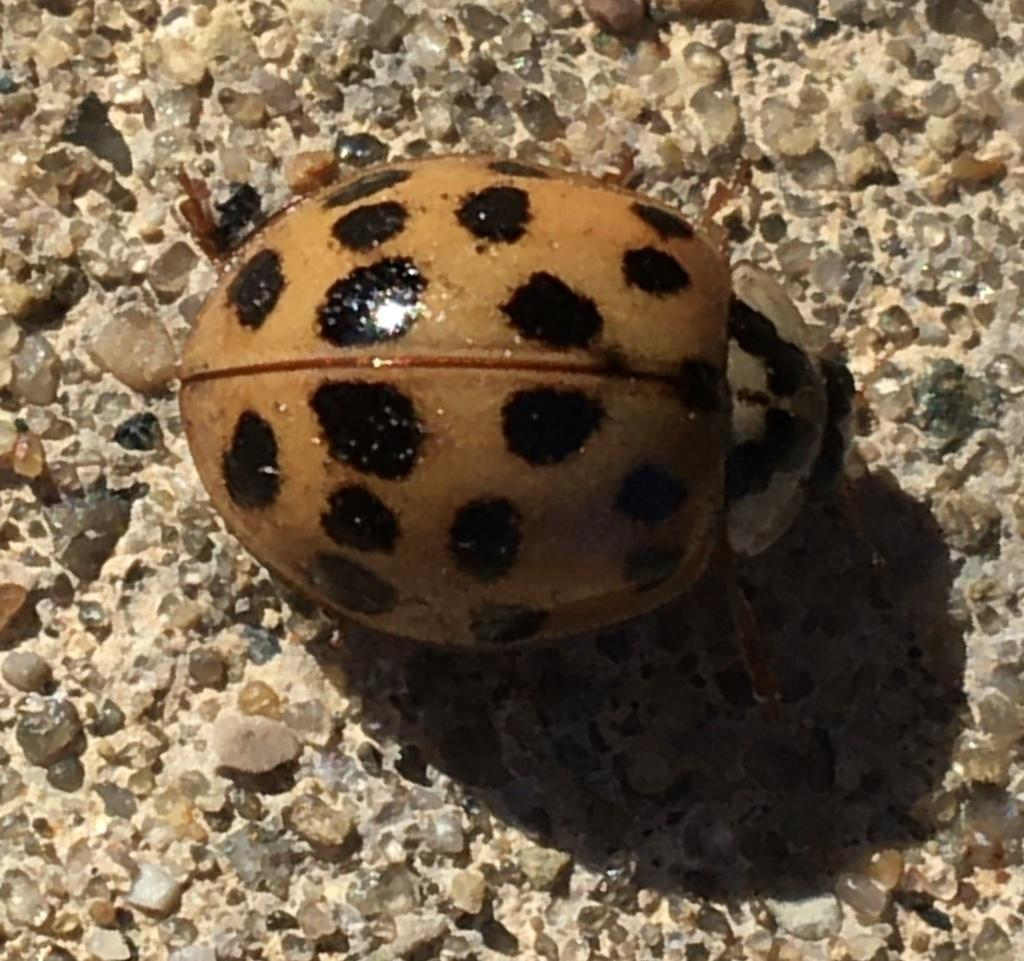ladybug: (174, 151, 866, 721)
